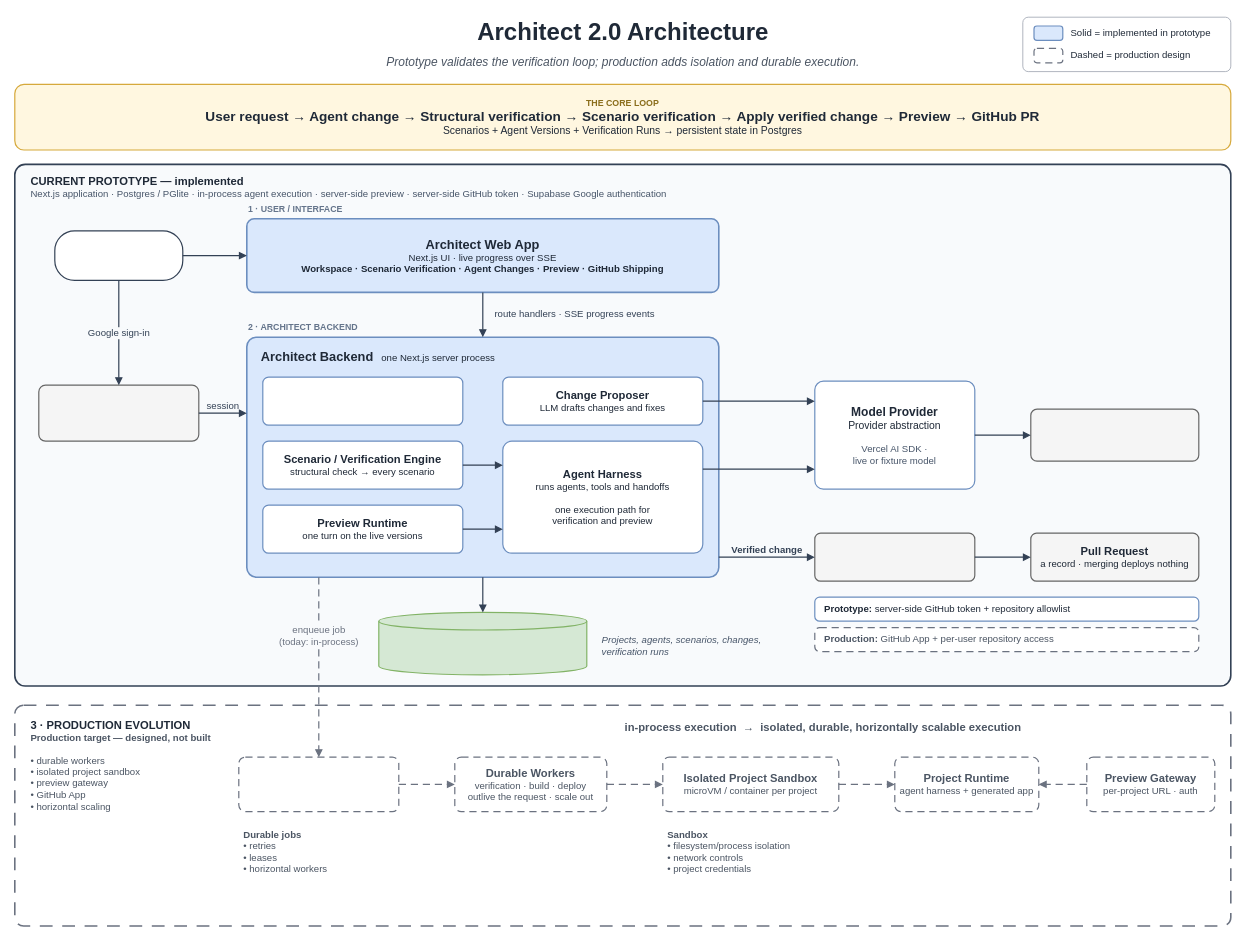
The diagram is 1245 pixels wide and 940 high, and some of its shapes have lost their labels. The centre of each missing label's shape, as x and y in pixels:
"Anthropic / OpenAI model APIs" belongs at (1114,434).
"Durable Job Queue jobs table + leases in Postgres" belongs at (318,784).
"GitHub REST API · branch + commit" belongs at (894,556).
"Google / Supabase Auth Google OAuth · session cookie" belongs at (118,412).
"Postgres Supabase · PGlite locally" belongs at (482,643).
"Project & Agent State immutable versions · access rules" belongs at (362,400).
"User browser" belongs at (118,255).
